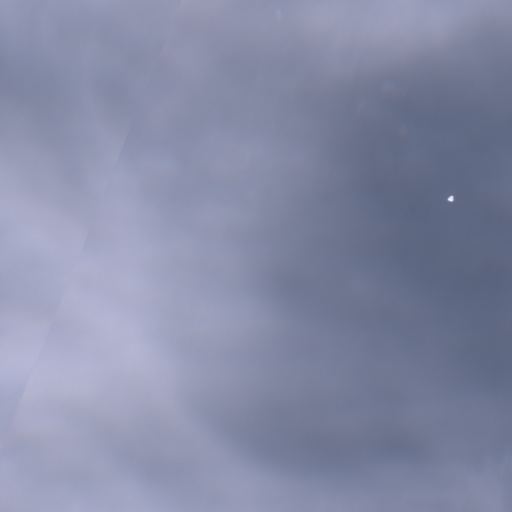Iceberg: (447, 196, 453, 201)
